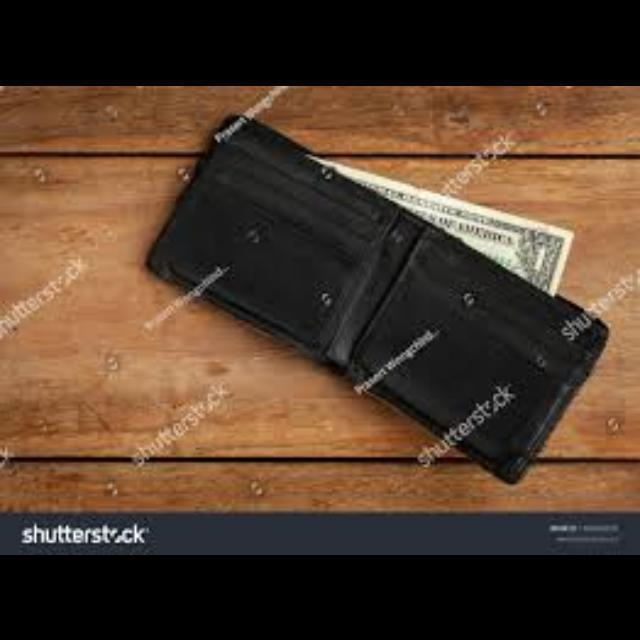wallet: (142, 94, 636, 468)
